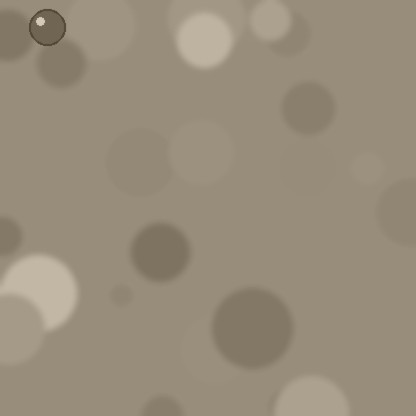gota: (29, 10, 65, 48)
